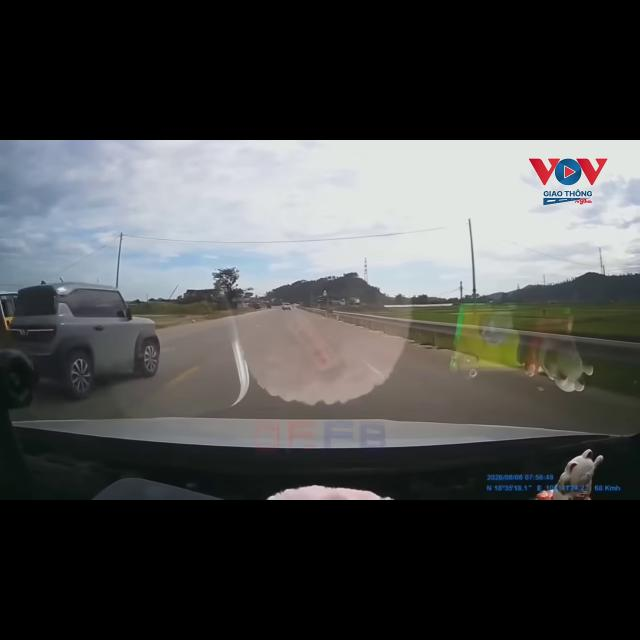car: (10, 283, 160, 398), (282, 303, 291, 309)
